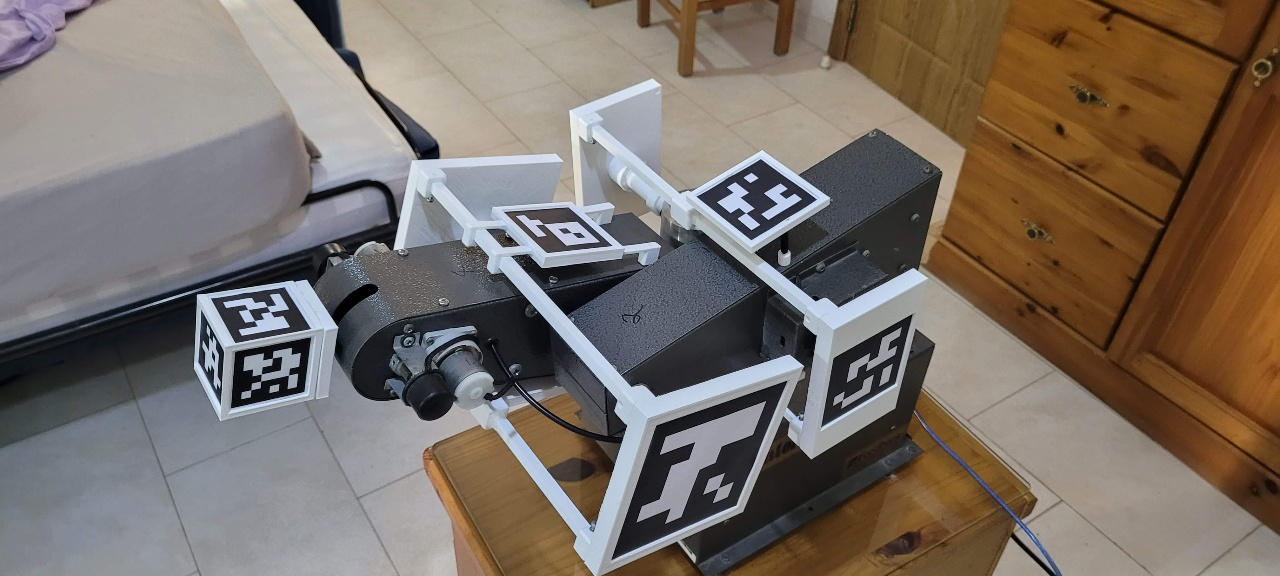Robot: (192, 77, 944, 576)
